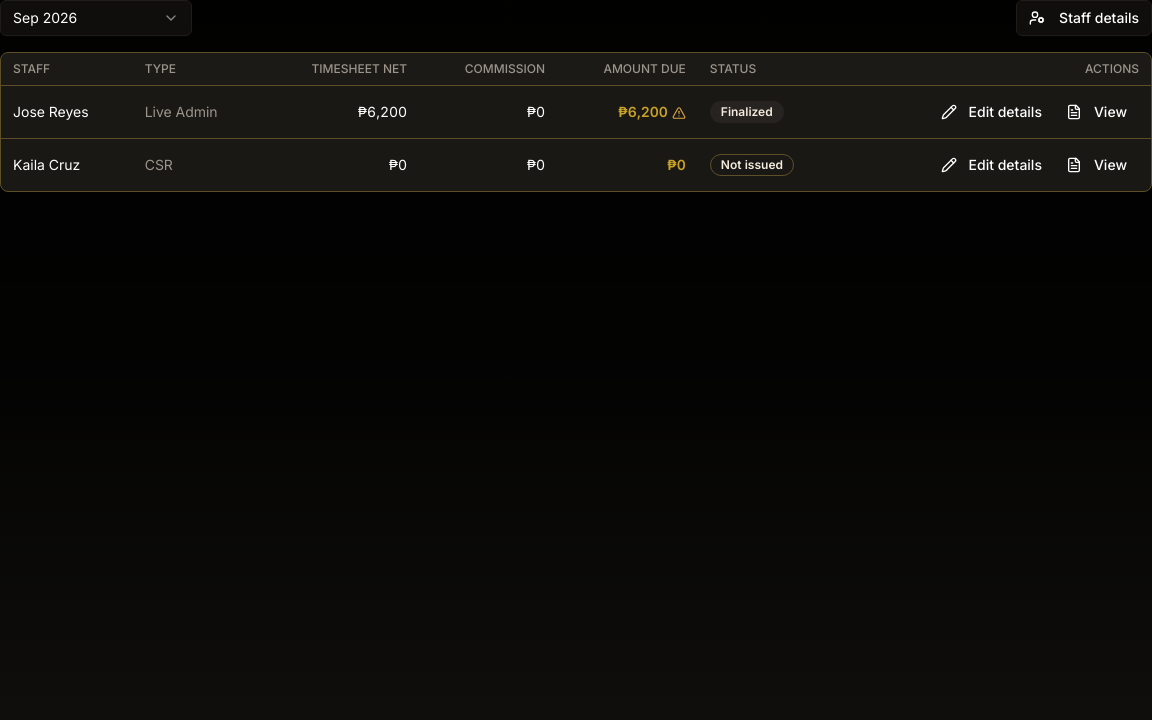
Scenario: Payslips tab › Record payment pre-fills yen from today's market rate — never the system 0.42
The image size is (1152, 720).
Click the button "View" in the row of "Jose Reyes": (1096, 112) [1054, 94, 1139, 130]
(page scrolled)
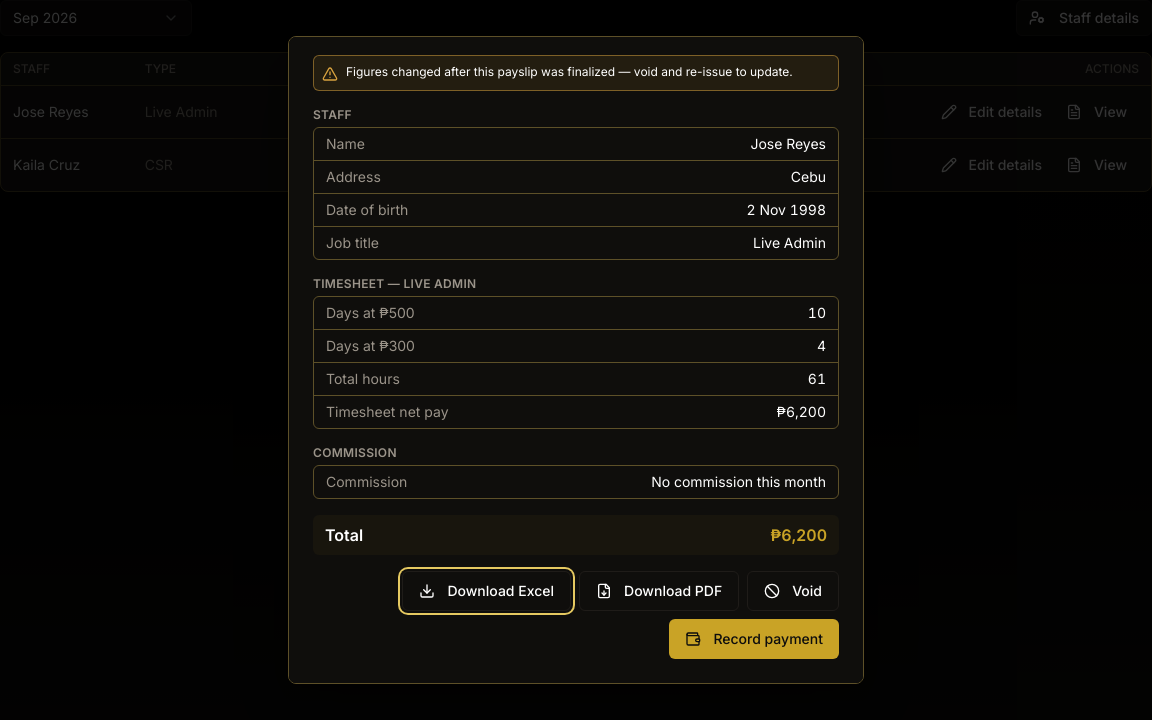
Click the button "Record payment": (754, 639) [669, 619, 839, 659]
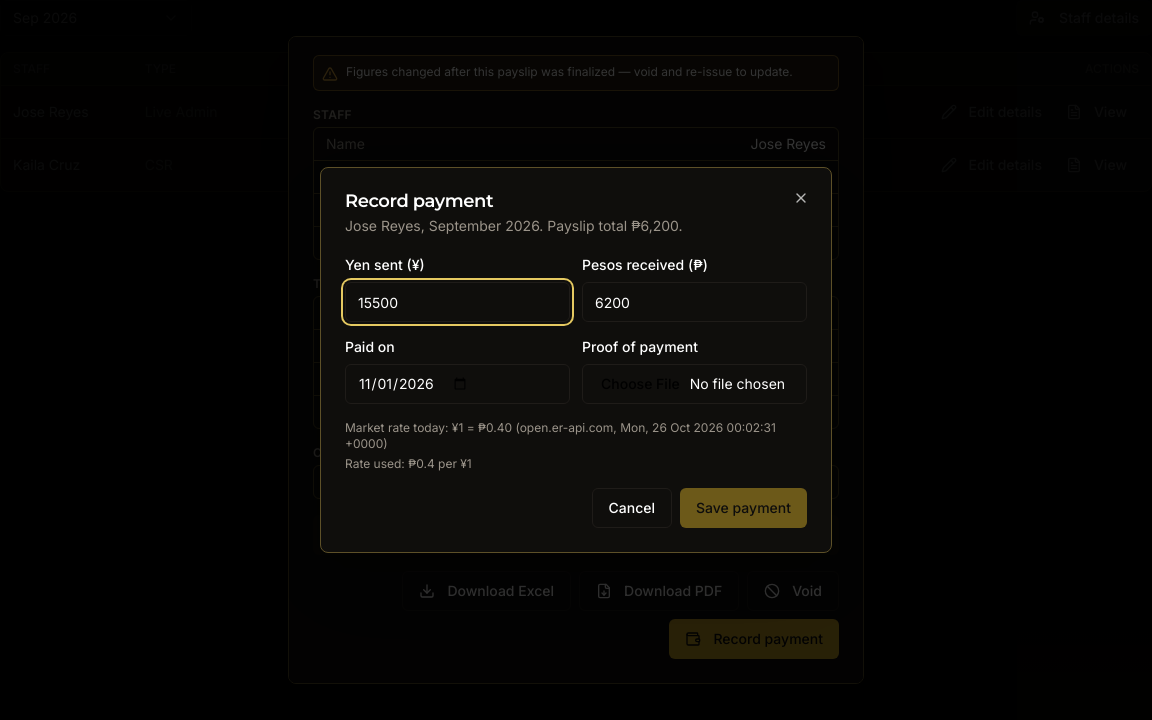
Expected: the field labelled "Yen sent (¥)" holds "15500", [345, 282, 570, 322]
Expected: the field labelled "Yen sent (¥)" does not hold "14762", [345, 282, 570, 322]
Expected: the text with test id "market-rate" reads "Market rate today: ¥1 = ₱0.40 (open.er-api.com, Mon, 26 Oct 2026 00:02:31 +0000)", [345, 420, 807, 452]
